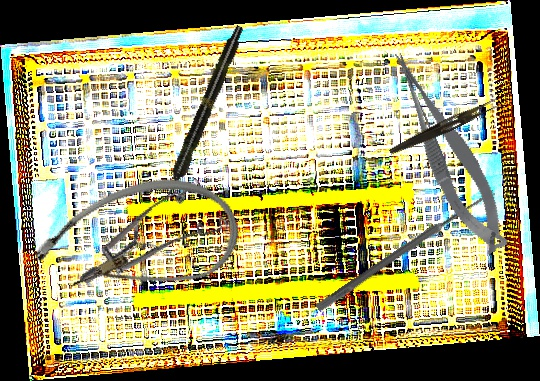Cannula: (24, 156, 251, 330)
Dressing Forceps: (388, 93, 501, 161)
Handpiece: (158, 23, 248, 204)
Micro Scissor: (385, 39, 515, 263)
Speculum: (79, 153, 240, 331)
Surgical Spoon: (315, 186, 496, 314)
